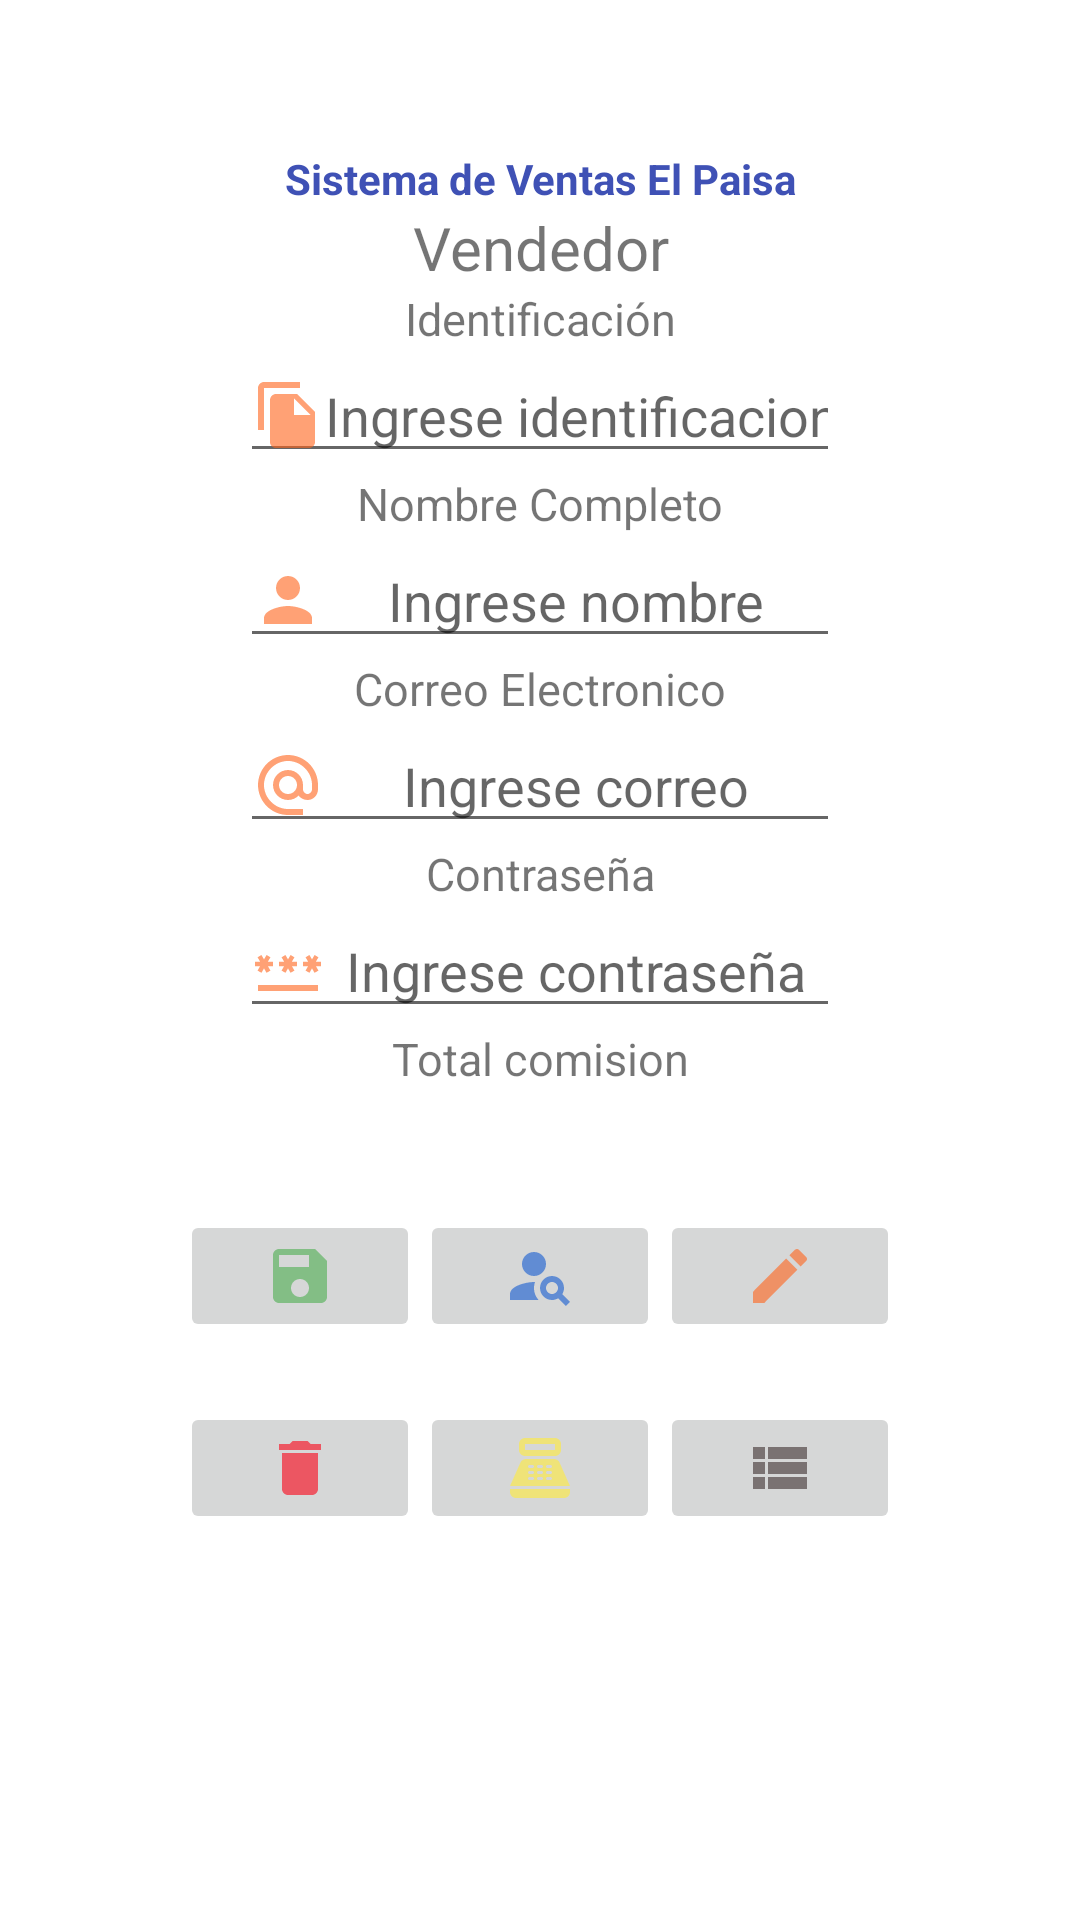

Icon click points for this 1080 x 1920 phone screenshot, format (x,y):
delete: (300,1468)
edit: (780,1276)
person search: (540,1276)
point of sale: (540,1468)
save: (300,1276)
view list: (780,1468)
